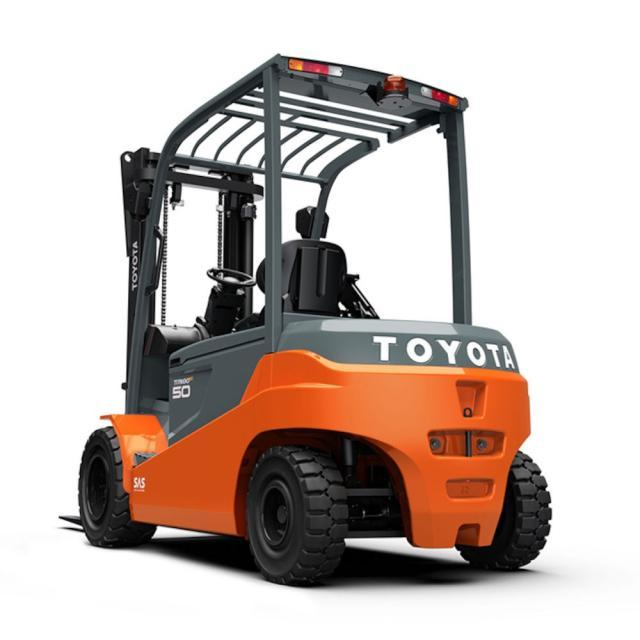forklift: (61, 47, 562, 604)
